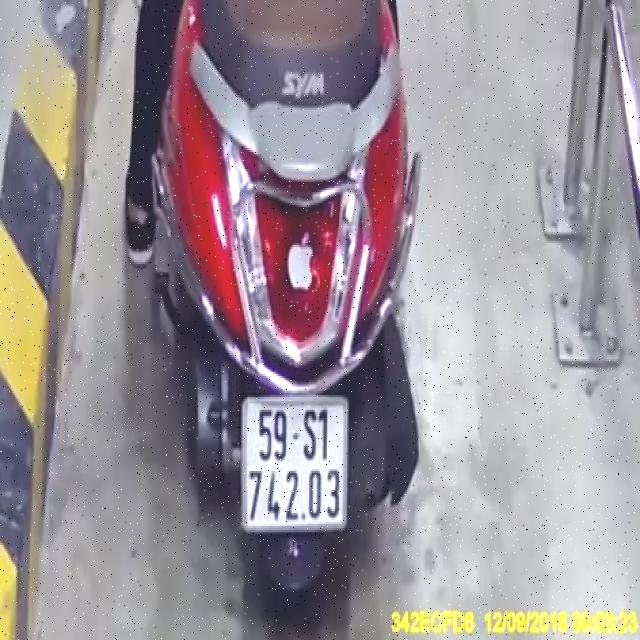0: (307, 467, 323, 521)
1: (318, 406, 329, 464)
2: (285, 468, 300, 522)
3: (326, 468, 341, 520)
4: (265, 470, 283, 523)
5: (257, 408, 272, 463)
7: (248, 468, 263, 522)
9: (274, 408, 288, 464)
S: (303, 407, 318, 462)
